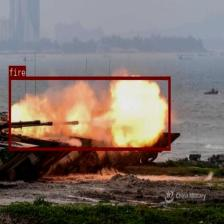fire: (8, 76, 170, 150)
